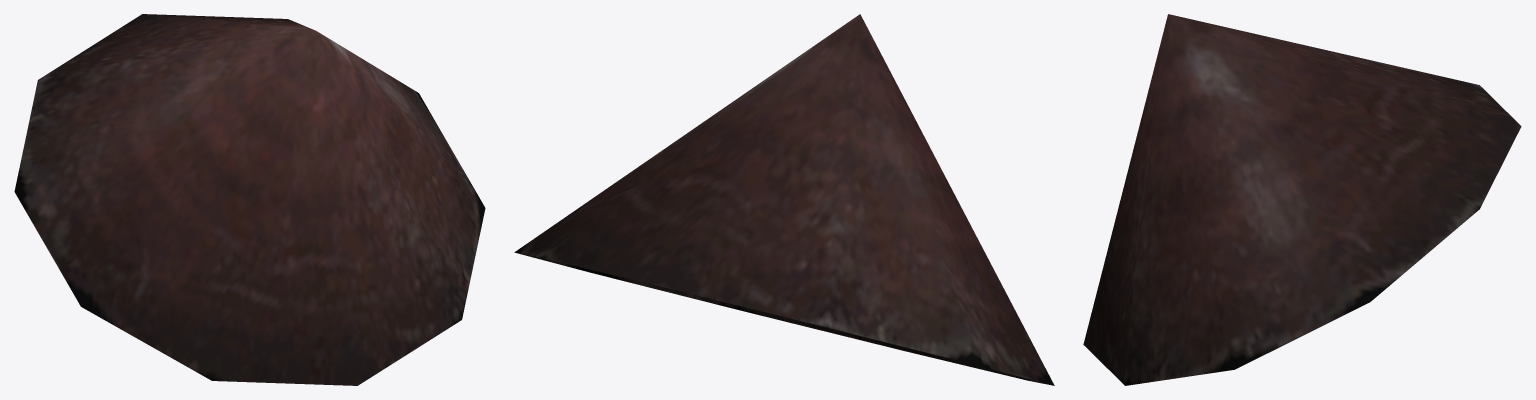
The model's file is switchboard_light.DAE.
3 renders of one model, left to right at view 1: azimuth 30°, elevation 25°; view 2: azimuth 150°, elevation 25°; view 3: azimuth 270°, elevation 25°, orthographic. The views are drawn at different scales.
Parts seen in each view (by area): view 1: switchboard_light; view 2: switchboard_light; view 3: switchboard_light.
Boxes of the visible parts, x1,y1,x2,y2 form: switchboard_light: (14,14,485,385); switchboard_light: (514,14,1054,385); switchboard_light: (1083,14,1521,385).
Size of the model in its own units: 0.0325 by 0.03 by 0.025.
